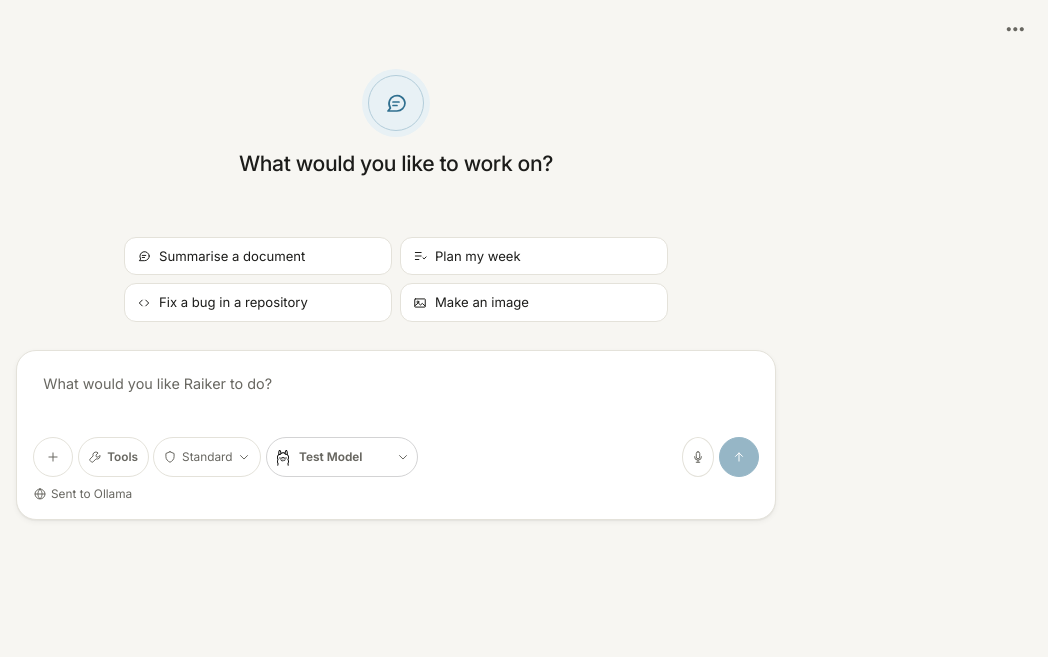
Scenario: ChatView composer — commands, mentions and message actions › running a command clears its token instead of sending it to the model
Type "/shortcuts" into the text box named "Prompt" at [396, 396], box [33, 367, 759, 425]
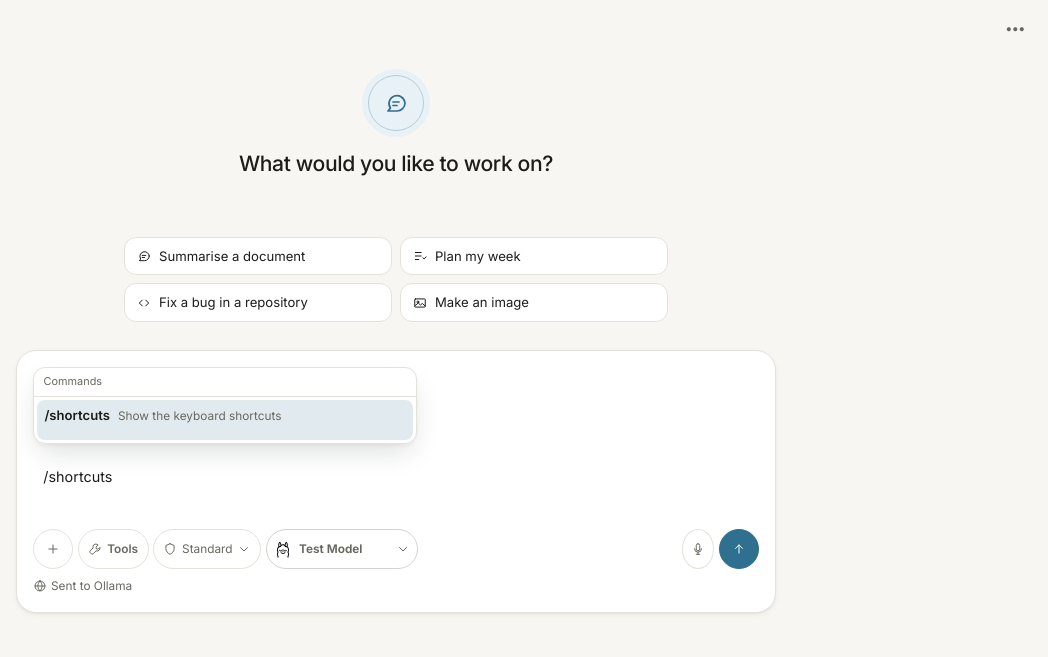
Press the mouse on the text "/shortcuts" at [77, 415], box [44, 405, 110, 425]
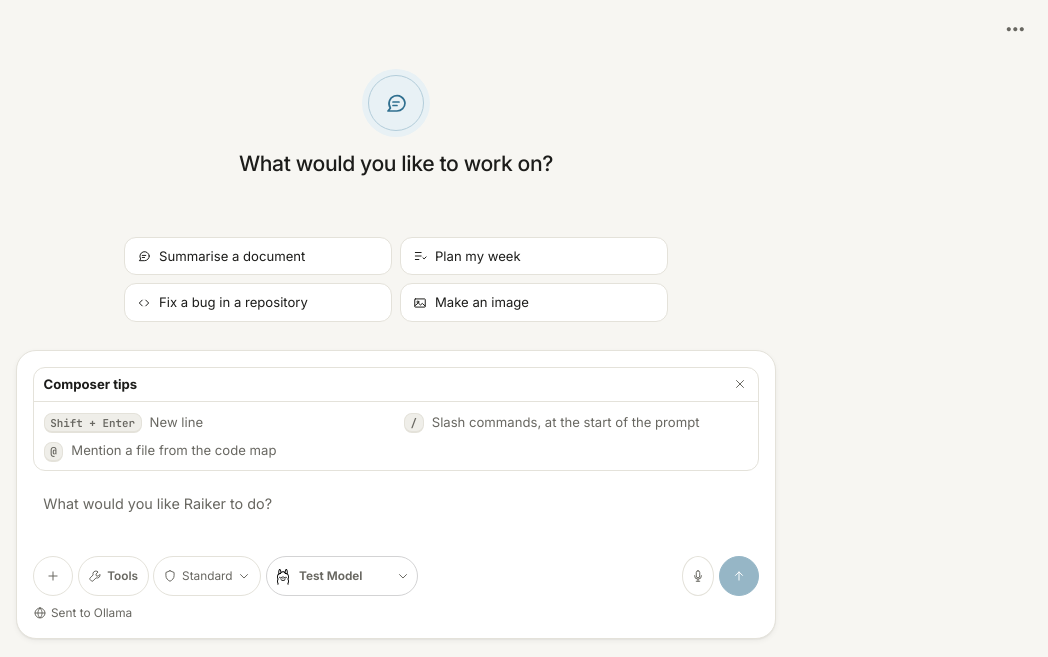
Expected: the element named "Keyboard shortcuts" is shown, [33, 367, 759, 471]
Expected: the text box named "Prompt" is empty, [33, 486, 759, 544]
